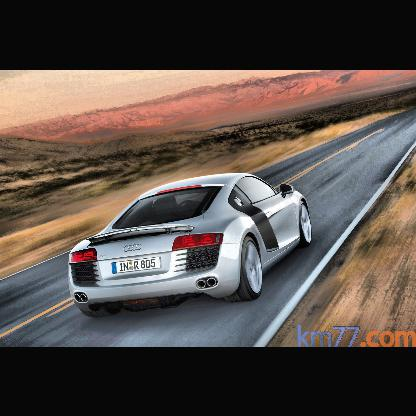Audi R8 Coupe 2012: (67, 174, 315, 301)
